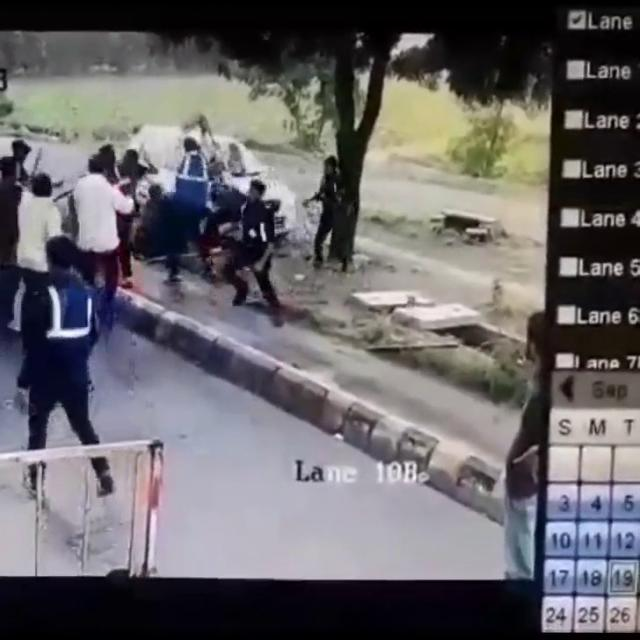Violence: (152, 97, 224, 278)
